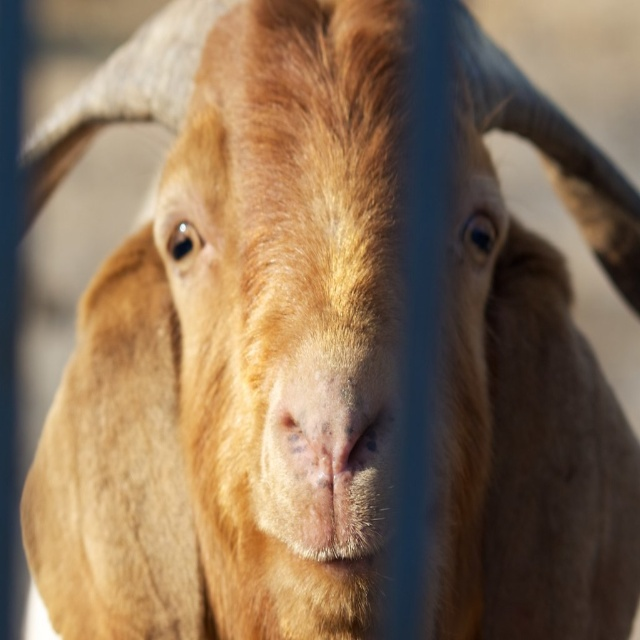Goat: (14, 1, 640, 639)
